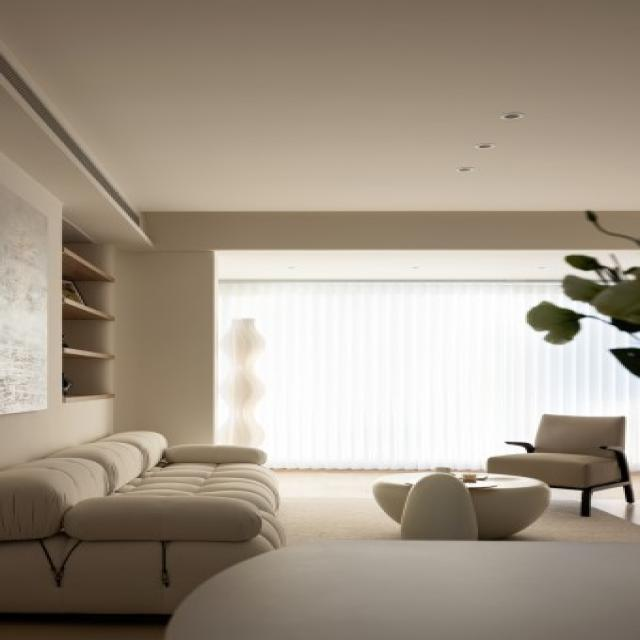Chair: (491, 405, 640, 524)
Sofa: (12, 426, 284, 608)
Table: (355, 466, 550, 538)
window: (216, 280, 628, 406)
